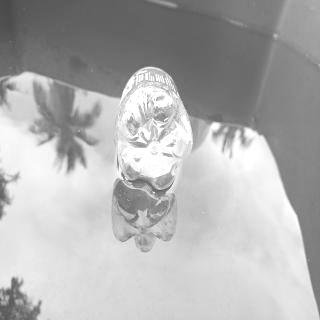bottle: (113, 64, 194, 192)
